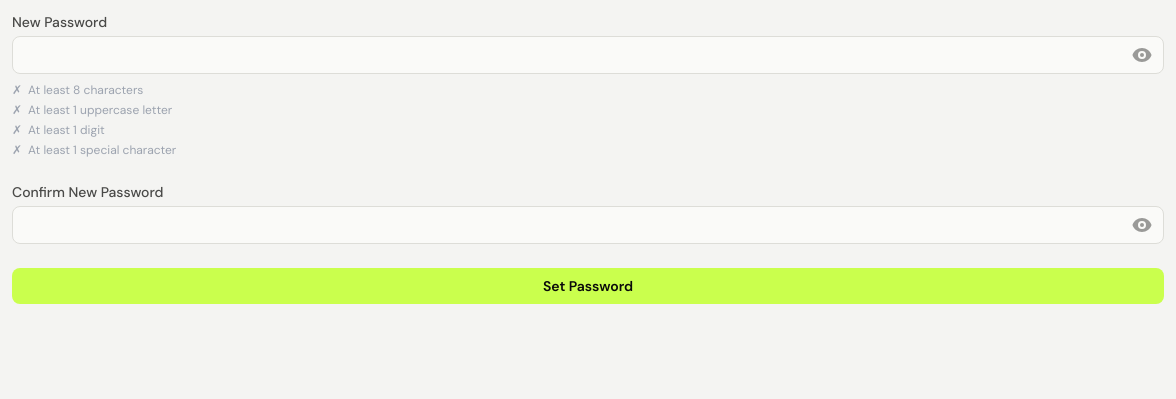
it: SetupAccountForm › with a valid token › shows error when password does not meet policy requirements
Weak password: matches confirmPassword but fails policy
Type "weakpass" into the password field labelled "New Password" at point(588, 55), box [12,36,1164,74]
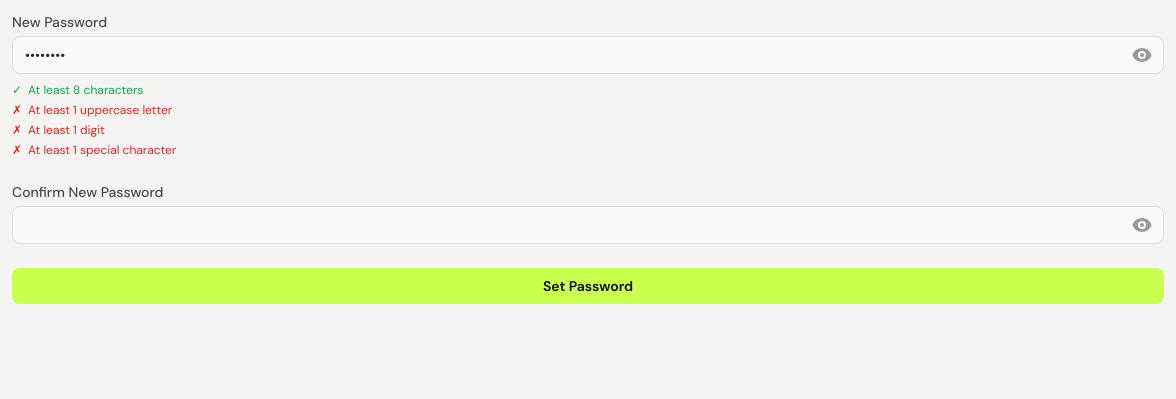
Type "weakpass" into the password field labelled "Confirm New Password" at point(588, 225), box [12,206,1164,244]
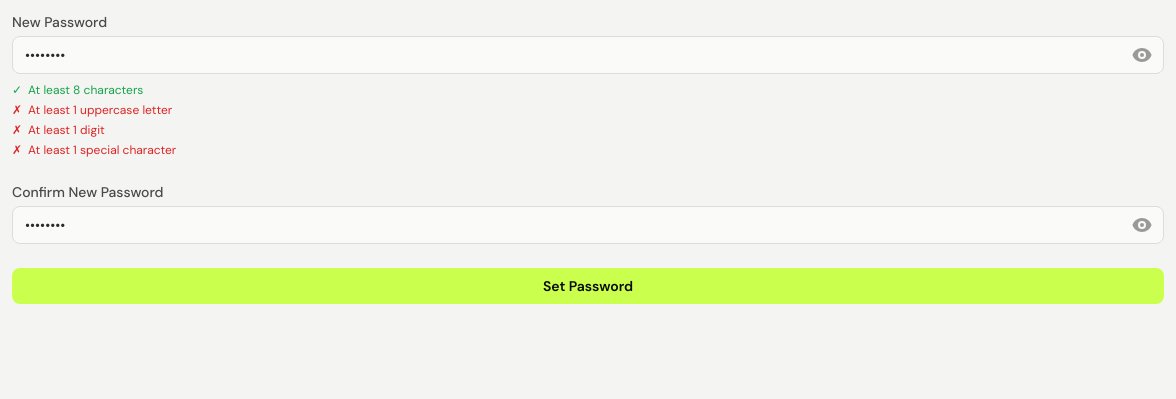
Click the button "Set Password" at point(588, 286), box [12,268,1164,304]
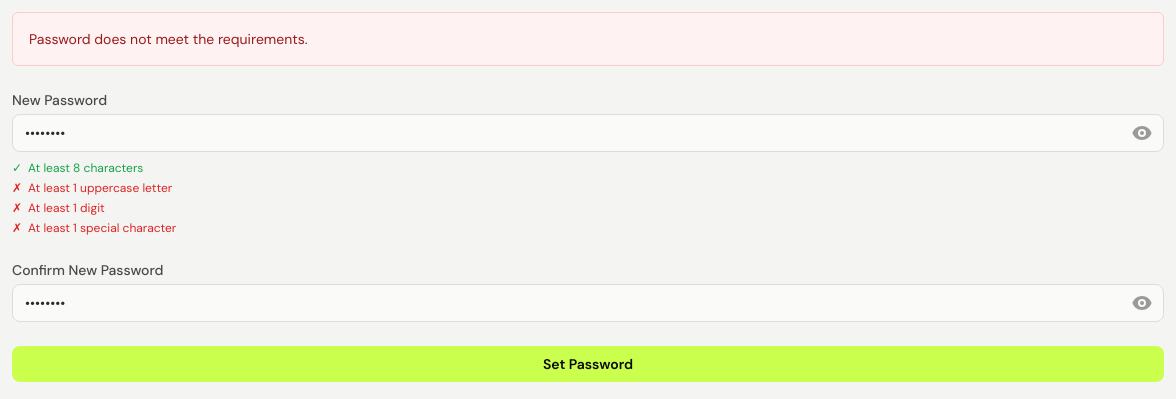
Expected: the text "Password does not meet the requirements." is shown, [29,30,308,48]
